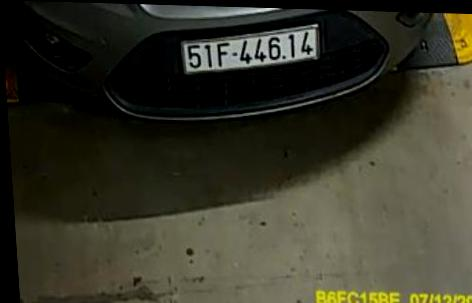License_Plate: (173, 21, 330, 75)
